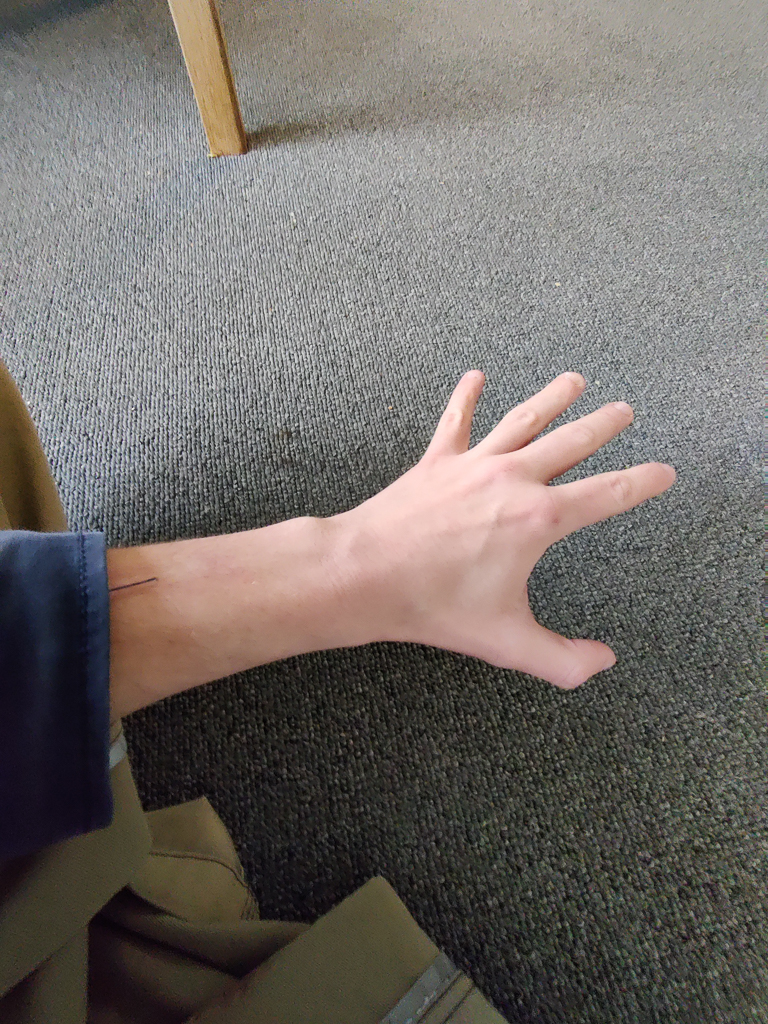Humanoid: (0, 356, 689, 1024)
